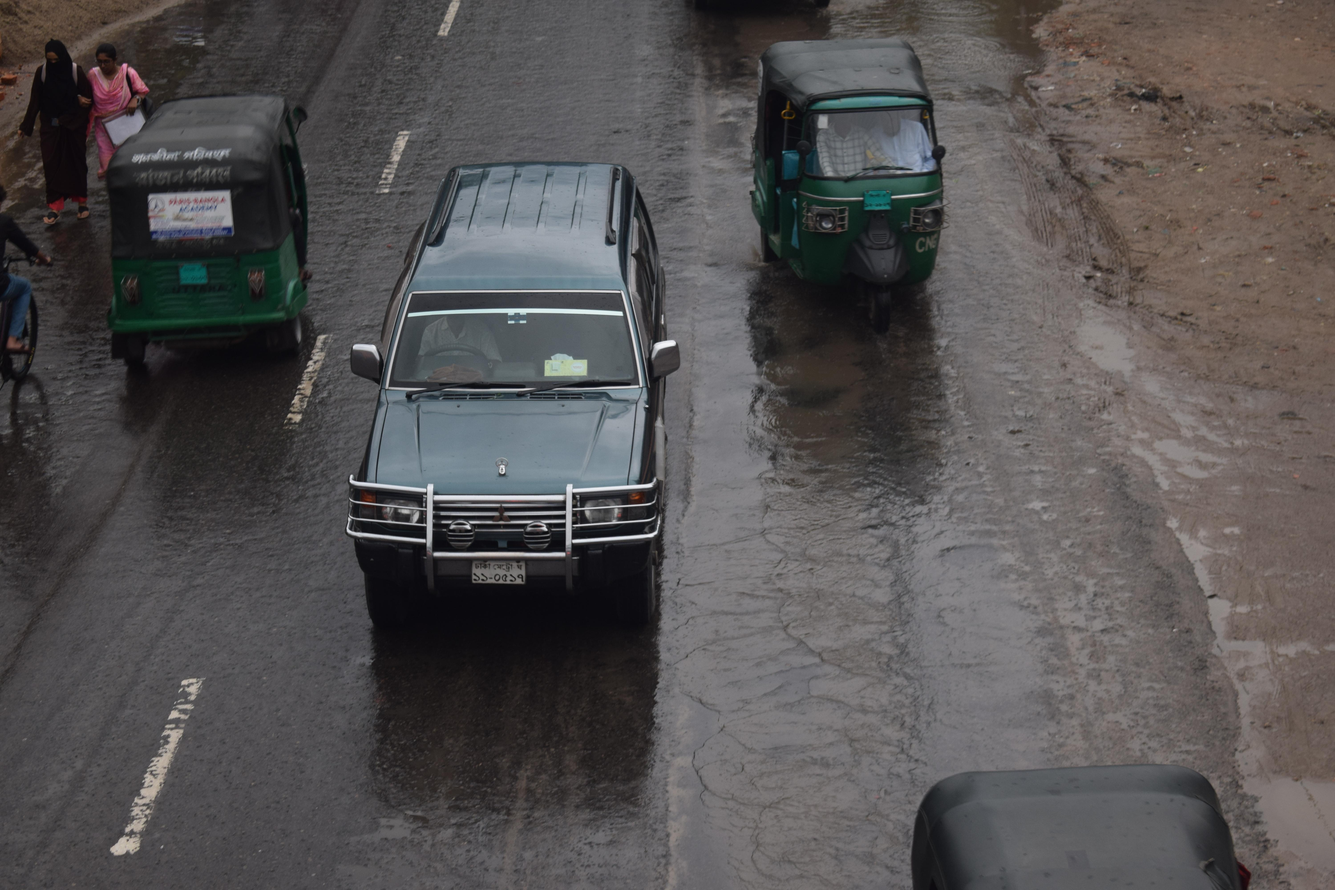Car: (328, 121, 732, 658)
